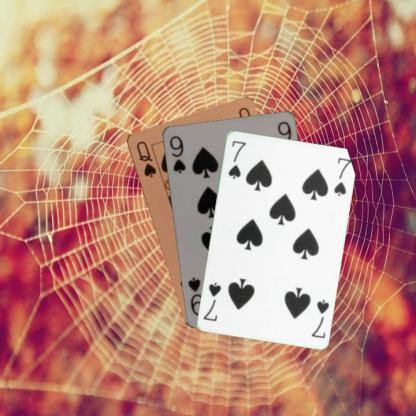7s: (308, 296, 330, 340), (226, 138, 248, 180)
9s: (166, 133, 186, 174)
Qs: (134, 138, 157, 179)
